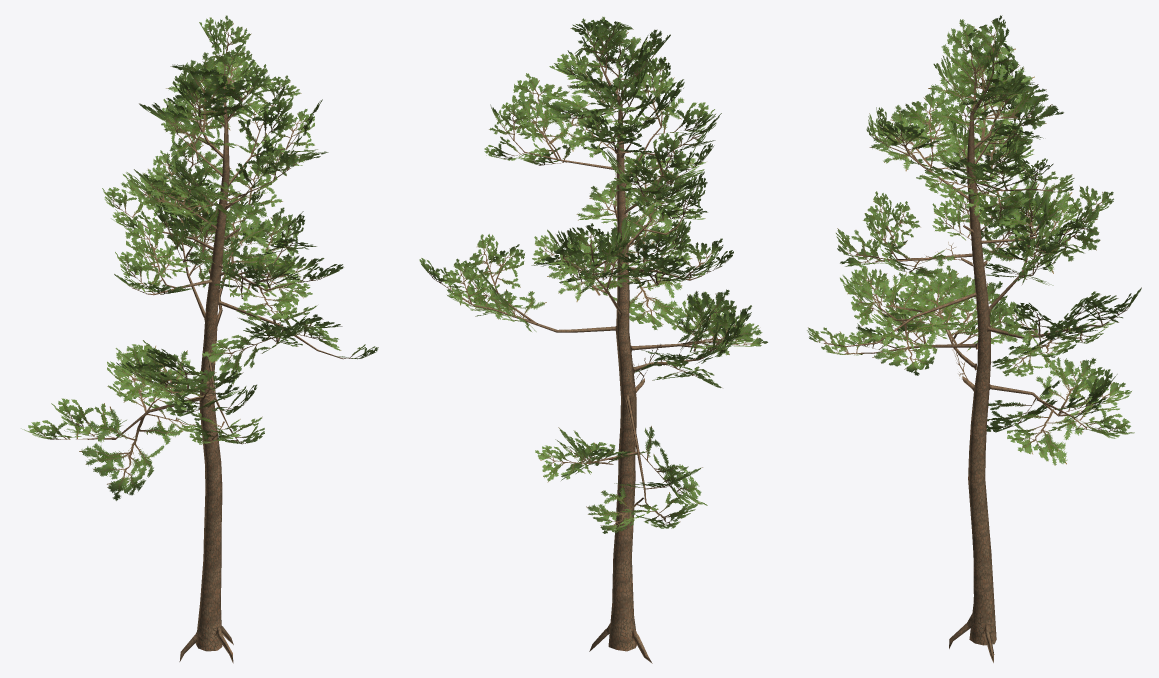
Rendered from w_pine1.glb.
3 views of the same model, side by side, from view 1: azimuth 30°, elevation 25°; view 2: azimuth 150°, elevation 25°; view 3: azimuth 270°, elevation 25° (orthographic). The views are drawn at different scales.
Parts seen in each view (by area): view 1: body|Clusters_Mat, body|Bark_Mat; view 2: body|Clusters_Mat, body|Bark_Mat; view 3: body|Clusters_Mat, body|Bark_Mat.
Part boxes in pixels (x1,y1,x2,y2): body|Clusters_Mat: [21, 15, 378, 500]; body|Bark_Mat: [87, 66, 343, 663]; body|Clusters_Mat: [419, 16, 767, 533]; body|Bark_Mat: [459, 60, 716, 663]; body|Clusters_Mat: [807, 15, 1141, 465]; body|Bark_Mat: [844, 73, 1108, 662].
Bounding box in the file's own units: 7.32 × 16.89 × 8.2.
Materials: 2 (2 with a texture image).
